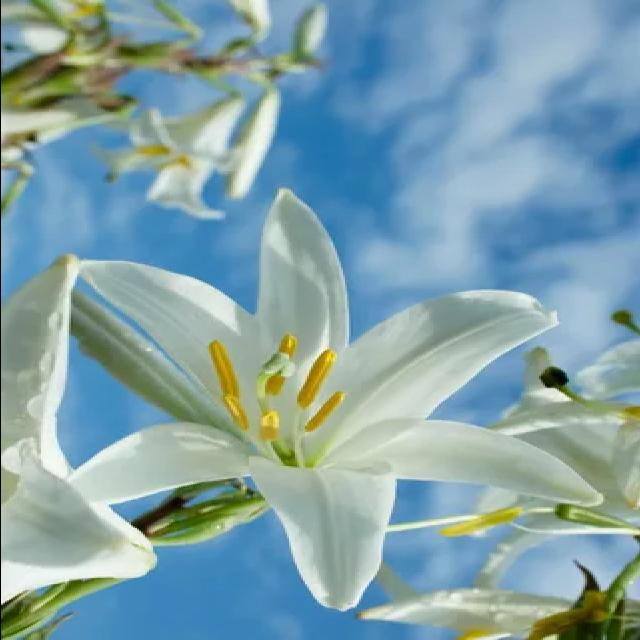lily: (59, 181, 604, 610)
